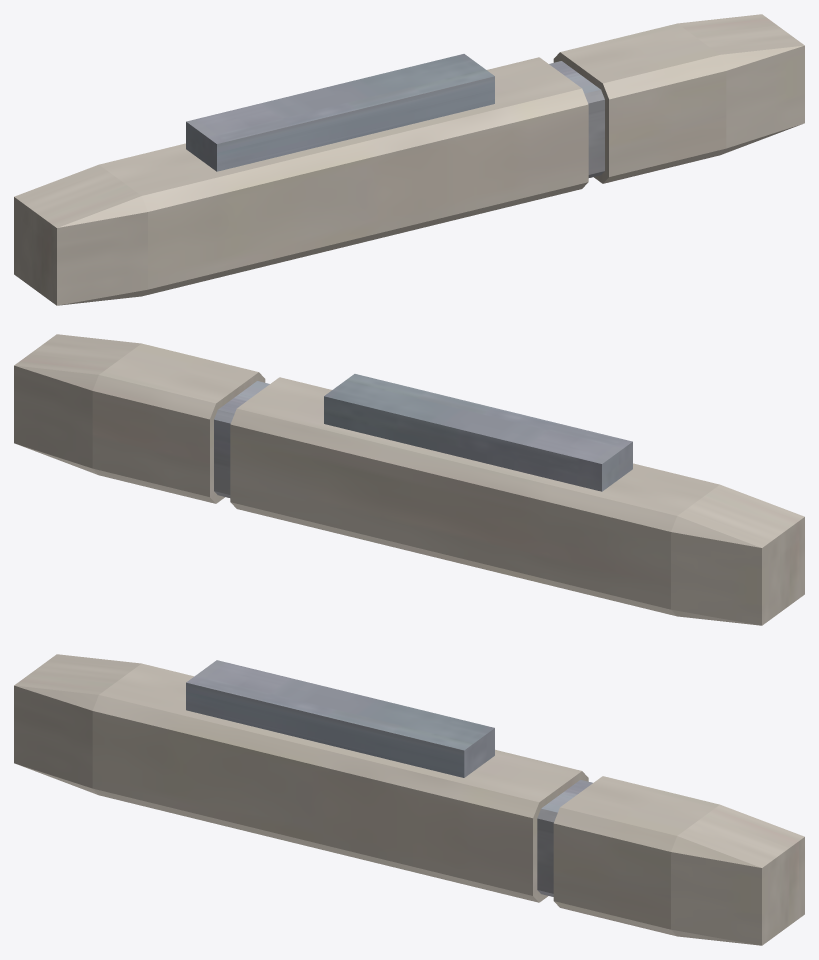
The model's file is pen.fbx.
The picture shows the model from 3 angles, top to bottom: view 1: azimuth 30°, elevation 25°; view 2: azimuth 150°, elevation 25°; view 3: azimuth 330°, elevation 25°; orthographic projection.
Parts seen in each view (by area): view 1: pen; view 2: pen; view 3: pen.
Boxes of the visible parts, x1,y1,x2,y2 form: pen: [14, 14, 804, 305]; pen: [14, 334, 804, 625]; pen: [14, 654, 804, 945].
Size of the model in its own units: 121 by 19.88 by 15.59.
